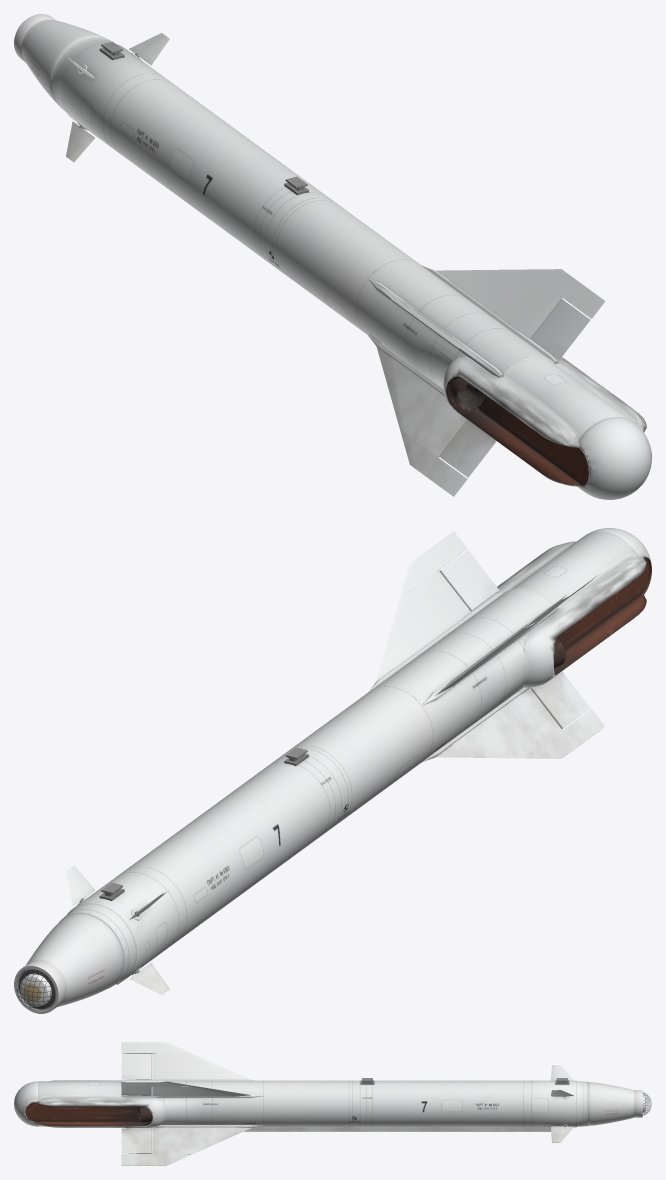
3 views of the same model, one above another, from view 1: azimuth 30°, elevation 25°; view 2: azimuth 150°, elevation 25°; view 3: azimuth 270°, elevation 25° (orthographic). The views are drawn at different scales.
Visible parts, largest first — view 1: body, wing1, wing3, ail1, ail3; view 2: body, wing3, wing1, ail1, ail3, wing2, seeker; view 3: body, wing4, wing2, wing1, ail2, ail4, ail1, can4, can2.
Part boxes in pixels (left/top/right/bottom): body: left=14, top=14, right=651, bottom=499; wing1: left=436, top=269, right=605, bottom=339; wing3: left=376, top=347, right=467, bottom=496; ail1: left=531, top=299, right=590, bottom=359; ail3: left=439, top=420, right=496, bottom=477; body: left=14, top=528, right=651, bottom=1013; wing3: left=435, top=688, right=605, bottom=758; wing1: left=376, top=531, right=470, bottom=681; ail1: left=439, top=550, right=499, bottom=610; ail3: left=531, top=671, right=590, bottom=728; wing2: left=435, top=568, right=605, bottom=695; seeker: left=16, top=971, right=53, bottom=1010; body: left=14, top=1078, right=642, bottom=1131; wing4: left=121, top=1127, right=251, bottom=1165; wing2: left=121, top=1042, right=250, bottom=1079; wing1: left=121, top=1081, right=250, bottom=1096; ail2: left=121, top=1054, right=151, bottom=1079; ail4: left=121, top=1128, right=151, bottom=1153; ail1: left=121, top=1086, right=151, bottom=1095; can4: left=551, top=1125, right=573, bottom=1142; can2: left=551, top=1065, right=573, bottom=1080.
Bounding box in the file's own units: 0.5422 × 0.5422 × 3.7.
Materials: 6 (2 with a texture image).
